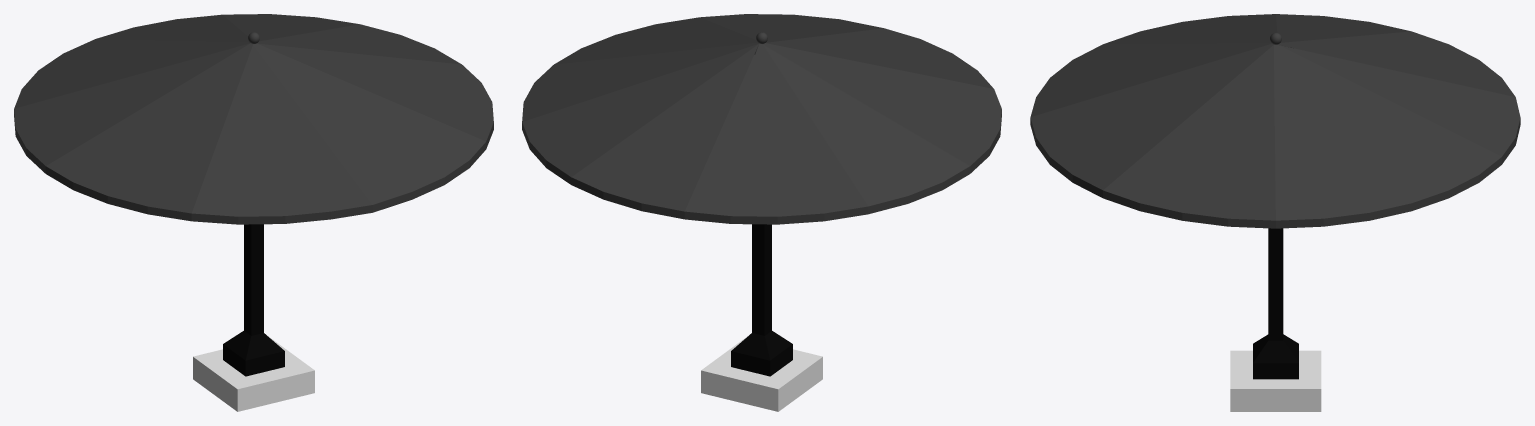
The model's file is Guarda-sol.fbx.
3 renders of one model, left to right at view 1: azimuth 30°, elevation 25°; view 2: azimuth 150°, elevation 25°; view 3: azimuth 270°, elevation 25°, orthographic.
Visible parts, largest first — view 1: GuardaSol; view 2: GuardaSol; view 3: GuardaSol.
Boxes of the visible parts, box(x1,y1,x2,y2) form: GuardaSol: box(14, 14, 493, 411); GuardaSol: box(522, 14, 1001, 411); GuardaSol: box(1030, 14, 1520, 411).
Bounding box in the file's own units: 1076 × 872 × 1078.
Materials: 3 (3 with a texture image).
